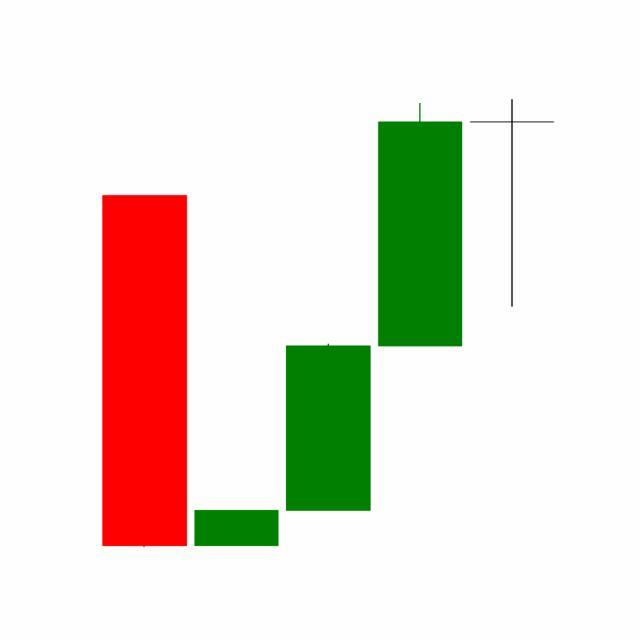Dragonfly Doji: (466, 98, 559, 310)
